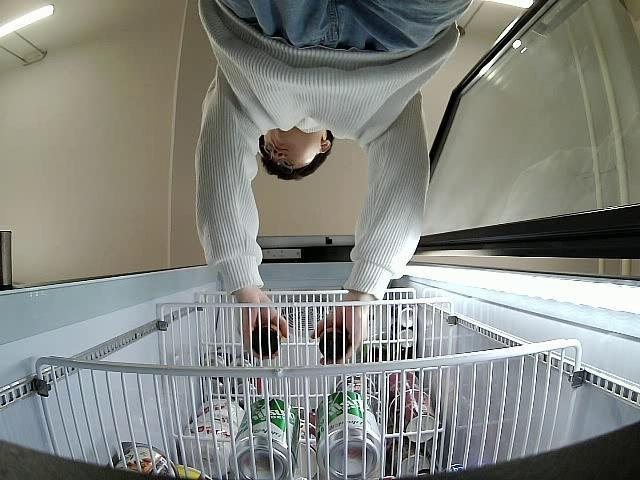17_vita500: (320, 328, 351, 360), (253, 324, 282, 356)
